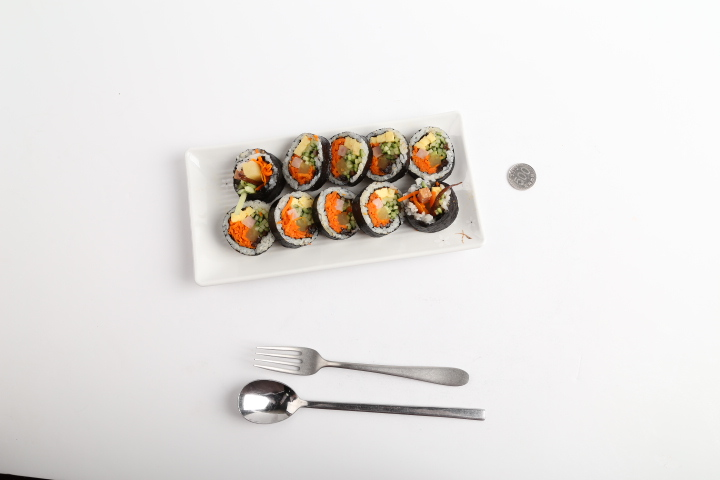dish: (184, 114, 485, 288)
ref_coin: (506, 163, 536, 189)
ref_fork: (253, 346, 331, 376)
ref_spoon: (237, 379, 307, 424)
김밥: (223, 126, 460, 256)
